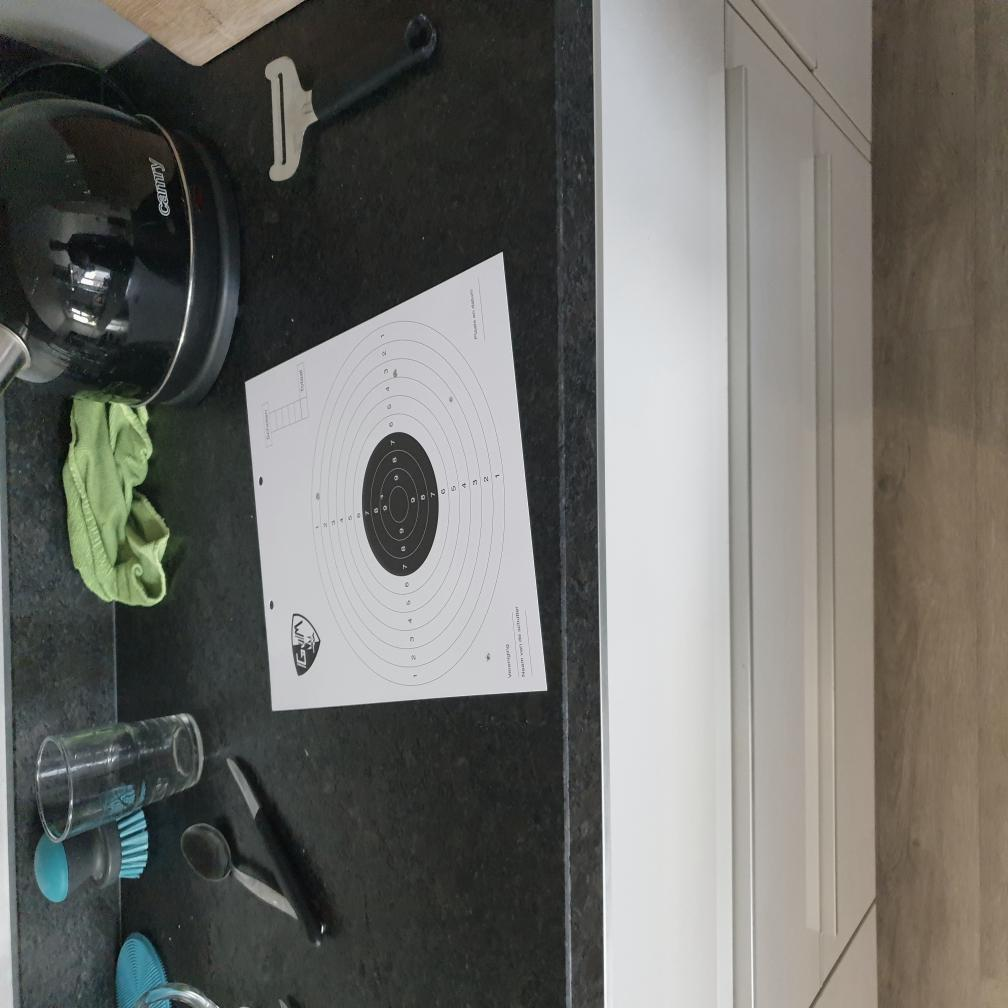0: (486, 652, 490, 662)
1: (316, 492, 320, 500)
3: (393, 369, 398, 378), (449, 396, 453, 402)
9: (380, 493, 384, 500)
Target: (312, 317, 507, 687)
black_contour: (362, 431, 439, 576)
